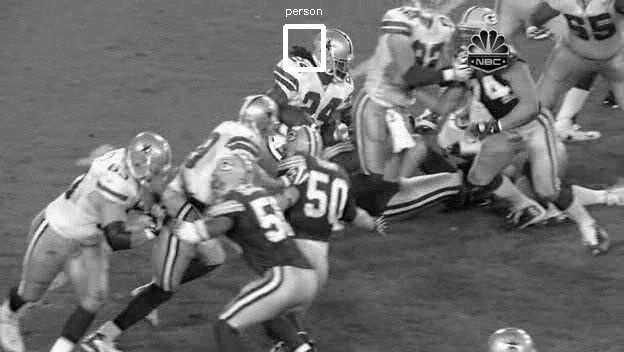person: (318, 30, 354, 75), (317, 30, 353, 75), (319, 30, 355, 75), (318, 29, 354, 74), (318, 31, 354, 76)
target_negative: (446, 63, 578, 126), (215, 237, 564, 251), (539, 289, 620, 338), (479, 316, 573, 348), (570, 71, 578, 223), (605, 269, 621, 297)
